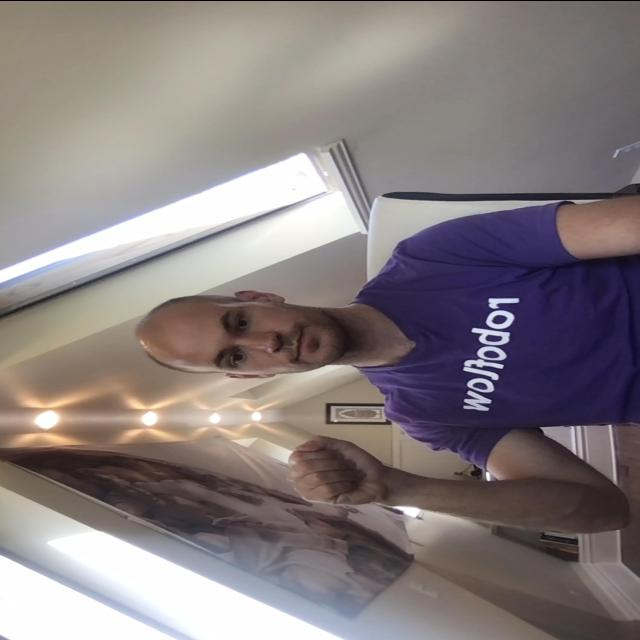Rock: (288, 430, 386, 508)
